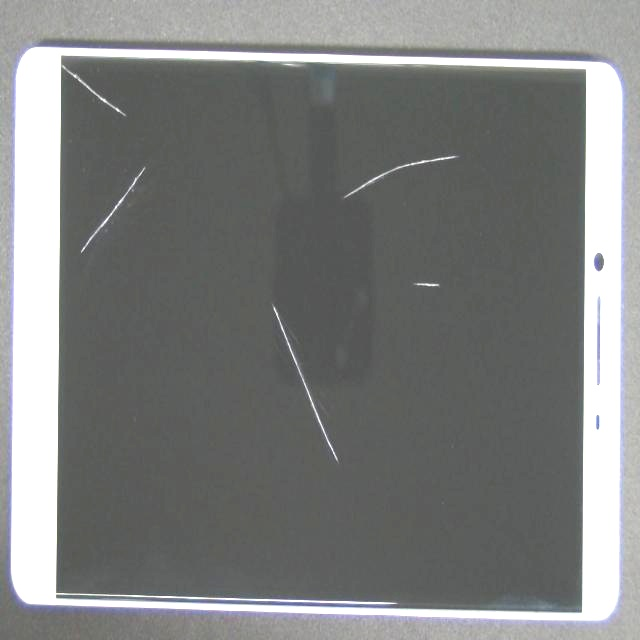scratch: (212, 324, 490, 600), (290, 49, 619, 235), (2, 194, 153, 367), (106, 84, 168, 137)
